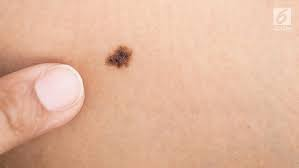tahilalat: (85, 12, 164, 101)
